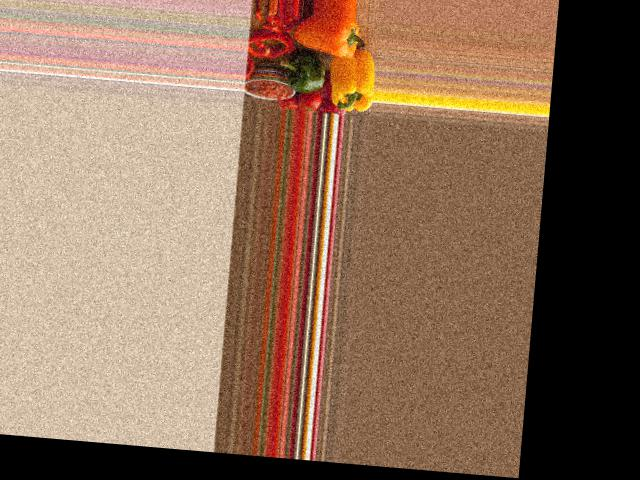bell_pepper: (325, 57, 375, 112)
